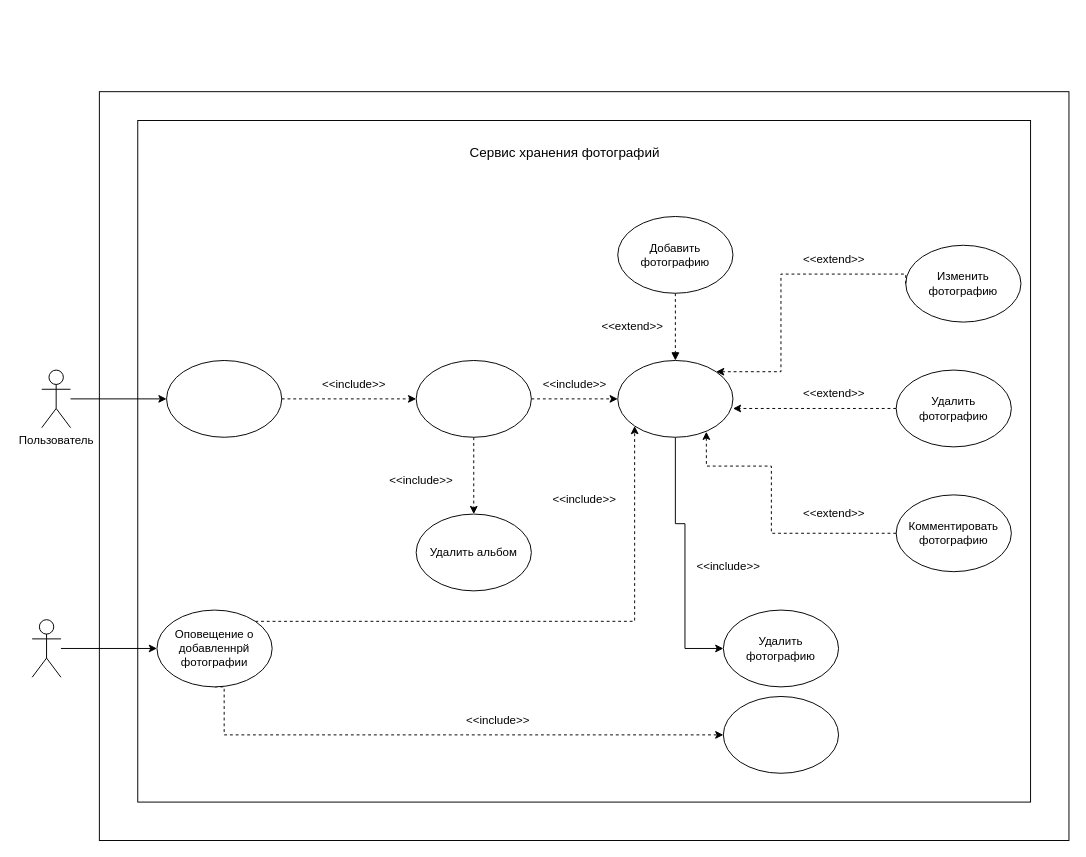
The diagram is 1086 pixels wide and 857 high, and some of its shapes have lost their labels. The shapes that lost their labels are listed below. From the top down, each one's centre as x and y in pixels, then its label:
At (x=224, y=398): "Создать альбом".
At (x=473, y=398): "Просмотр альбома".
At (x=675, y=398): "Просмотреть фотографию".
At (x=46, y=648): "Модератор".
At (x=780, y=734): "Одобрить фотографию".
